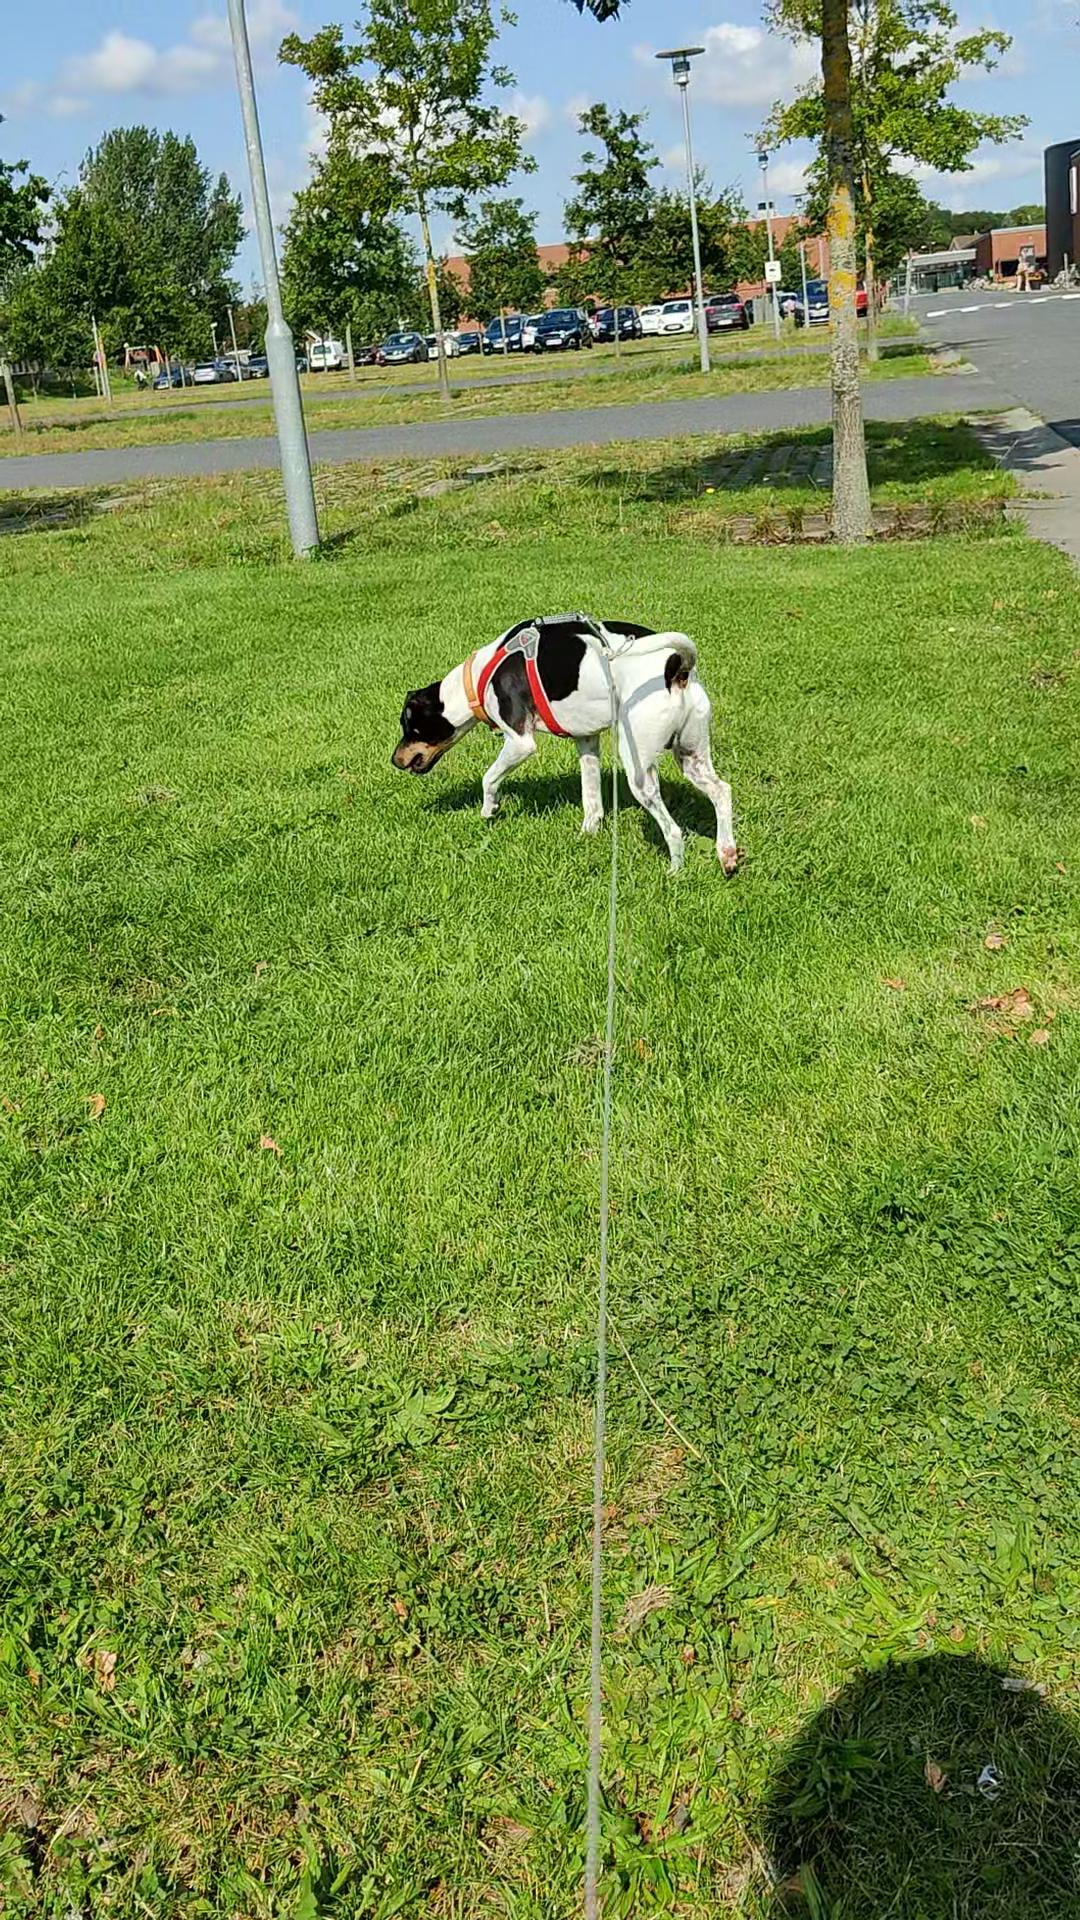Dog: (381, 597, 766, 882)
